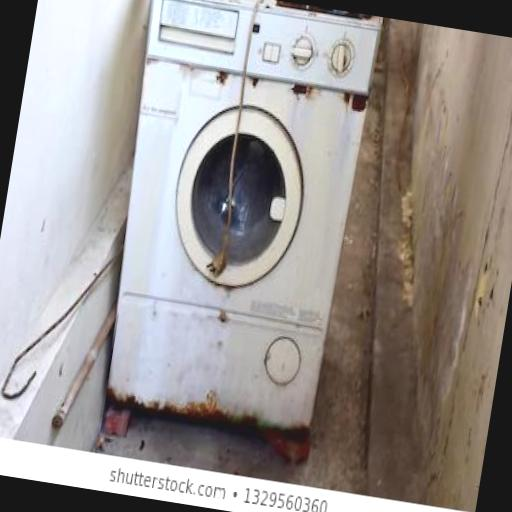corrosion: (351, 94, 367, 110), (293, 84, 307, 92)
